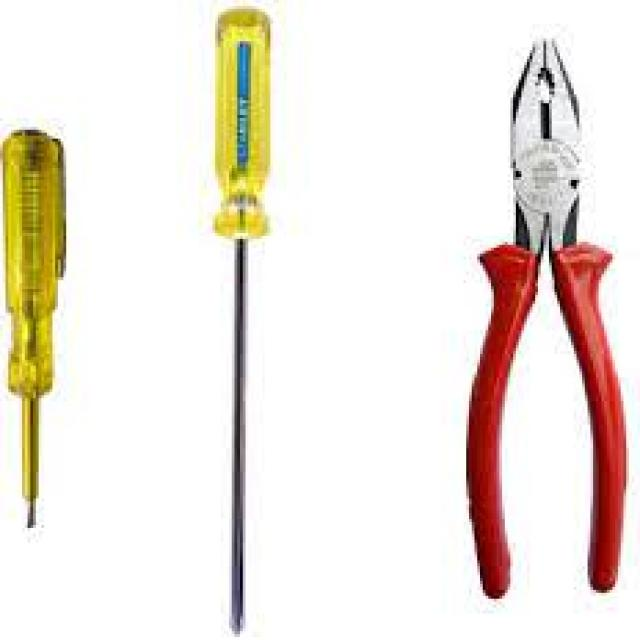Screwdriver: (214, 8, 270, 633), (2, 130, 65, 527)
